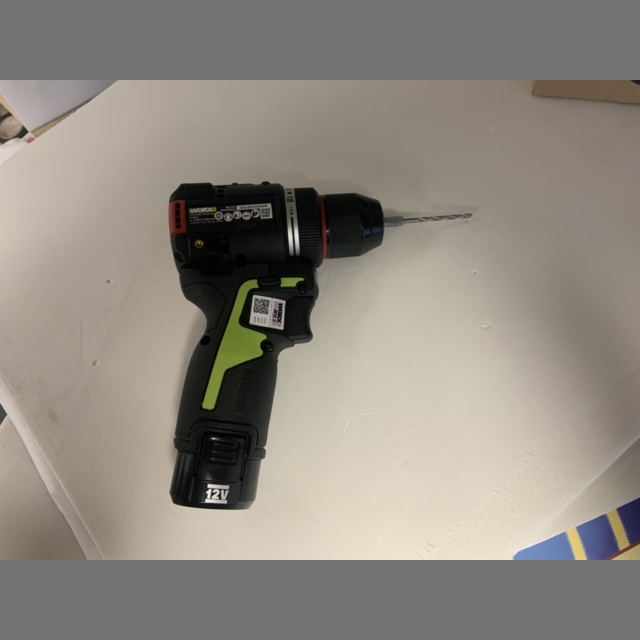drill: (168, 181, 471, 509)
